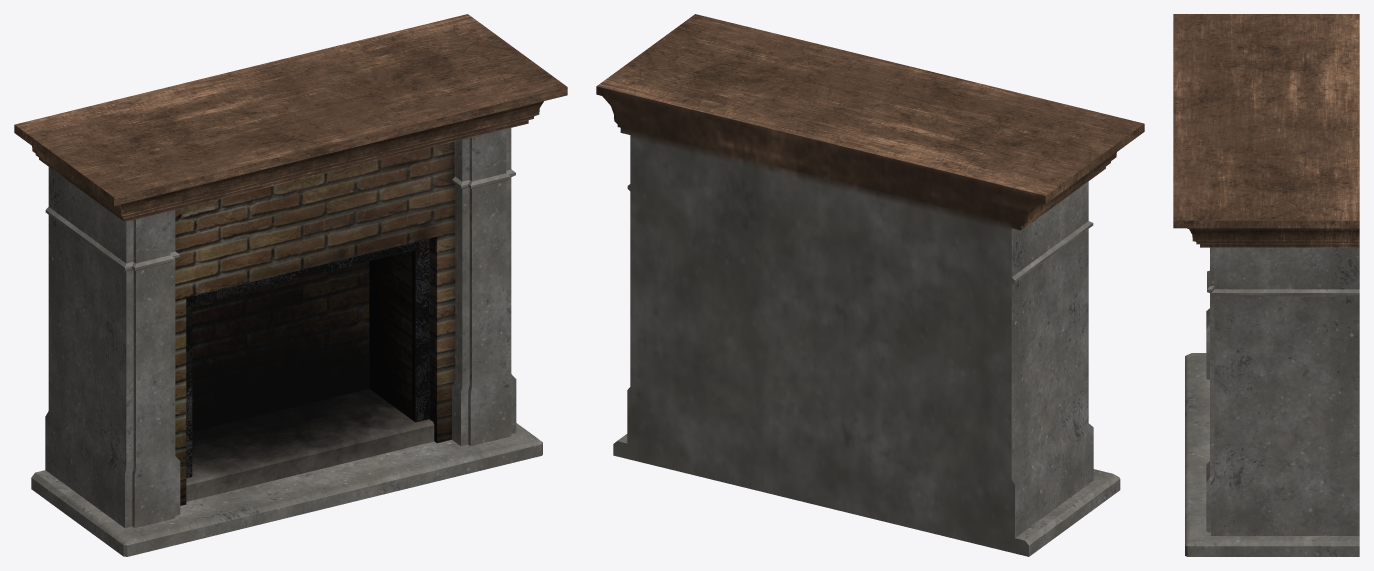
Rendered from fireplace_low-poly.glb.
The picture shows the model from 3 angles, left to right: view 1: azimuth 30°, elevation 25°; view 2: azimuth 150°, elevation 25°; view 3: azimuth 270°, elevation 25°; orthographic projection. The views are drawn at different scales.
Visible parts, largest first — view 1: fireplace; view 2: fireplace; view 3: fireplace.
Boxes of the visible parts, <box> form: fireplace: <box>14,14,567,556</box>; fireplace: <box>596,14,1144,556</box>; fireplace: <box>1173,14,1359,556</box>.
Bounding box in the file's own units: 0.6712 × 0.5213 × 0.2557.
Materials: 1 (1 with a texture image).
